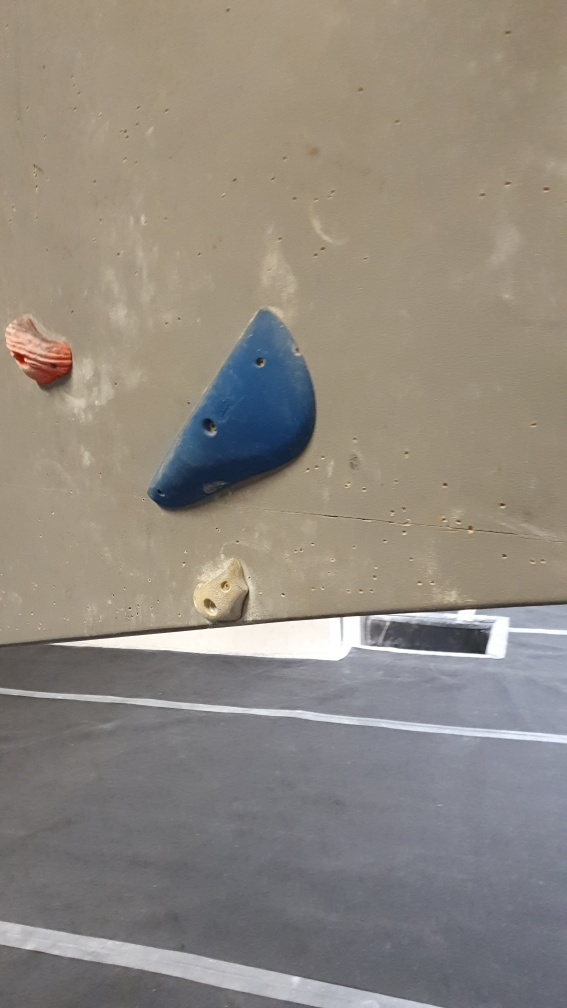Jug: (2, 310, 74, 392)
